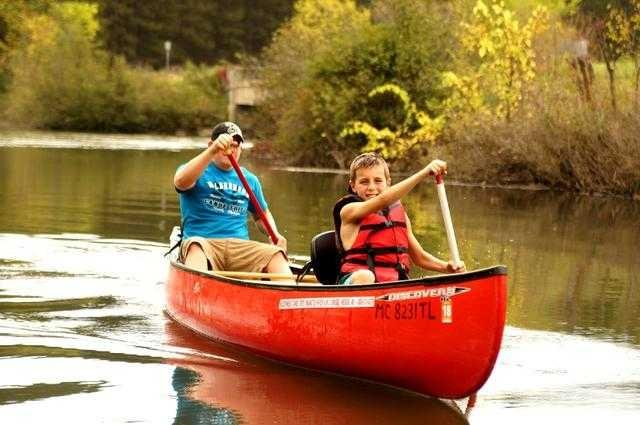kayak: (163, 258, 510, 400)
